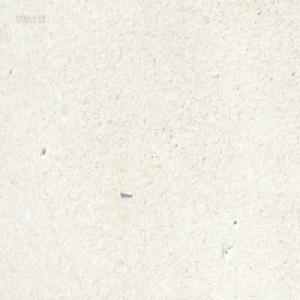Nail: (117, 188, 132, 197)
